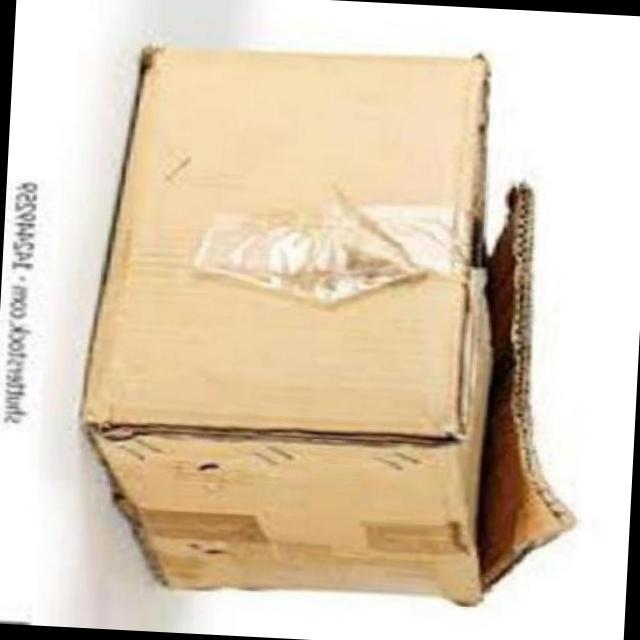box: (73, 25, 576, 612)
